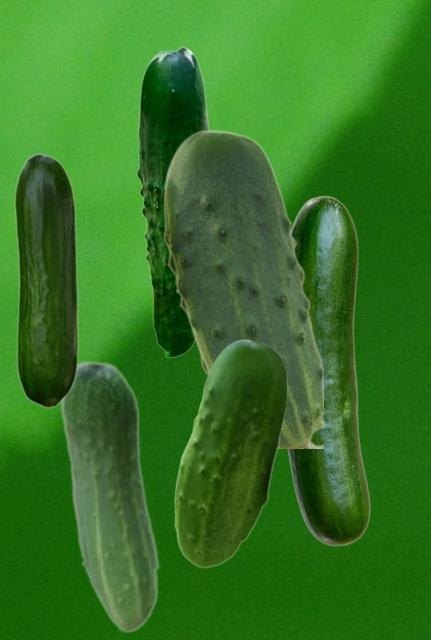cucumber: (163, 129, 322, 447), (287, 195, 369, 545), (60, 359, 159, 632), (174, 339, 286, 567), (136, 46, 209, 357), (14, 153, 78, 407)
